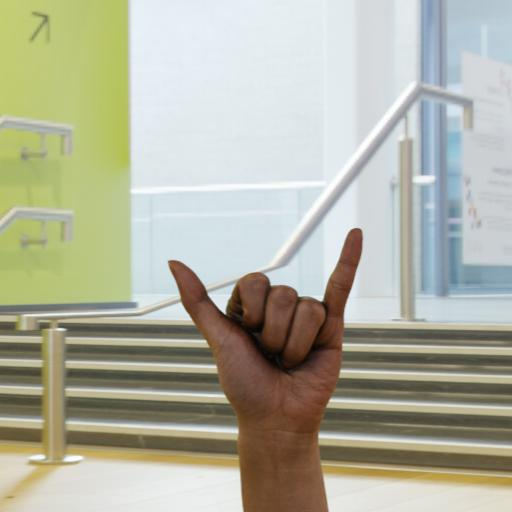Y: (125, 137, 460, 512)
